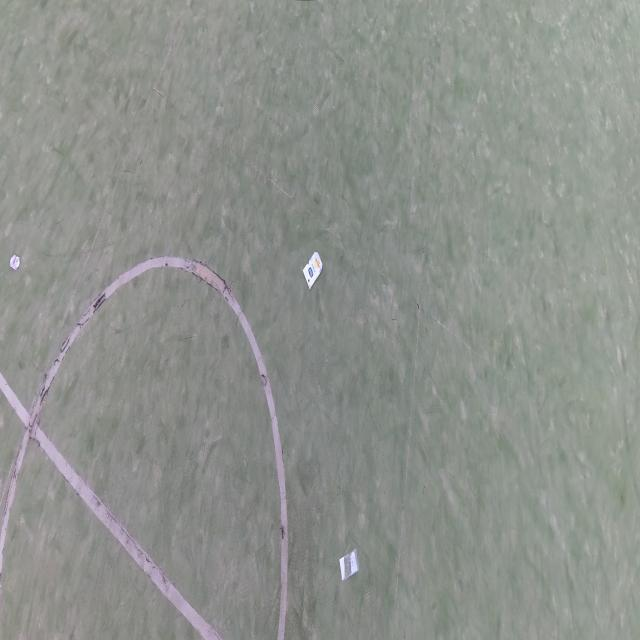rubbish: (303, 251, 323, 291), (339, 548, 360, 580), (9, 255, 20, 270)
